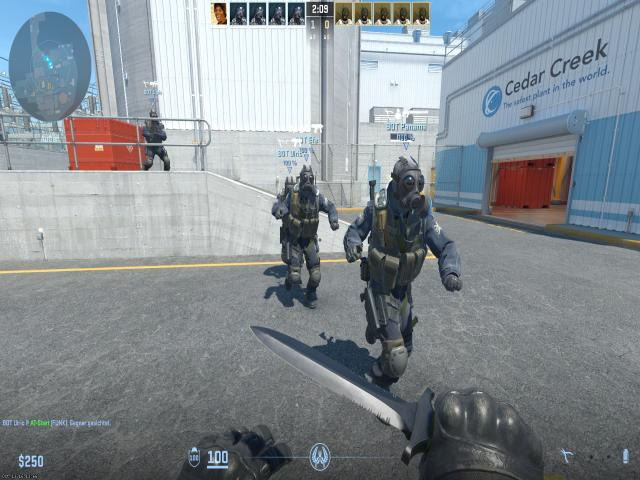CT: (363, 147, 442, 388), (286, 162, 332, 308), (140, 107, 169, 173), (276, 170, 294, 268)
CT-Head: (388, 155, 426, 209), (300, 168, 316, 190), (284, 175, 294, 193), (148, 108, 158, 122)
